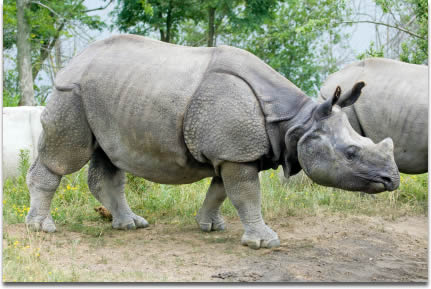rhinoceros: (28, 31, 402, 247)
